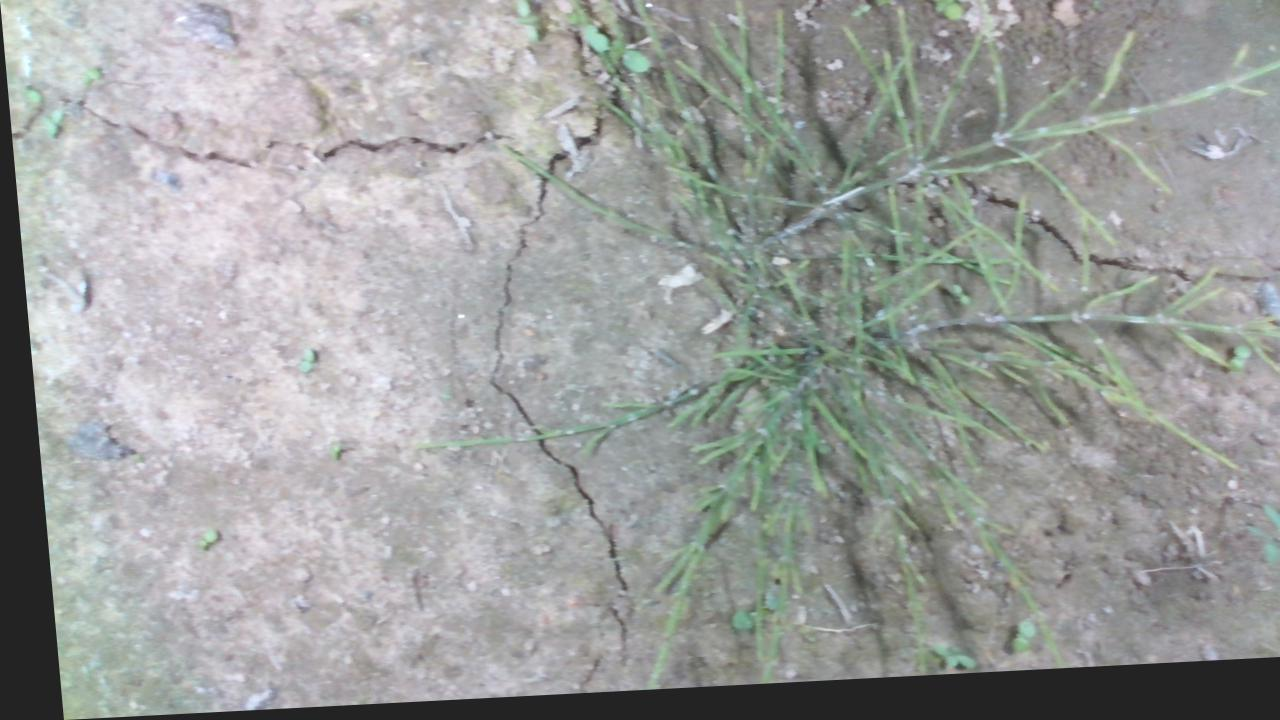weed: (175, 531, 217, 559), (282, 352, 308, 378)
